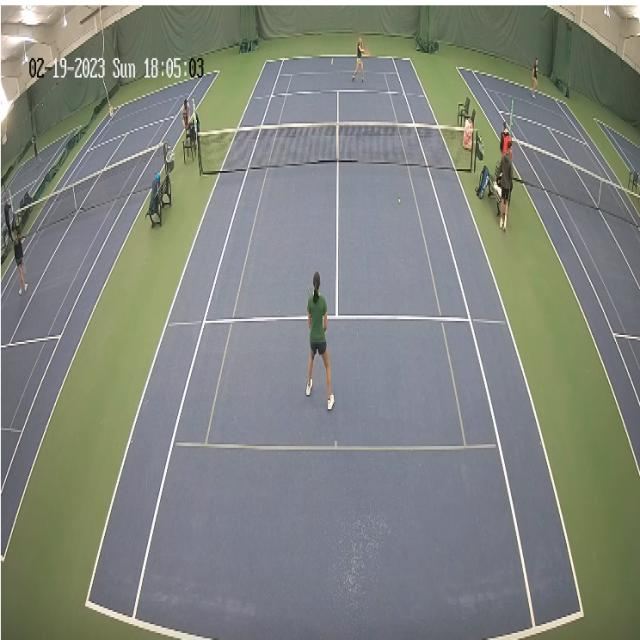ball: (331, 57, 334, 66), (398, 198, 401, 204)
